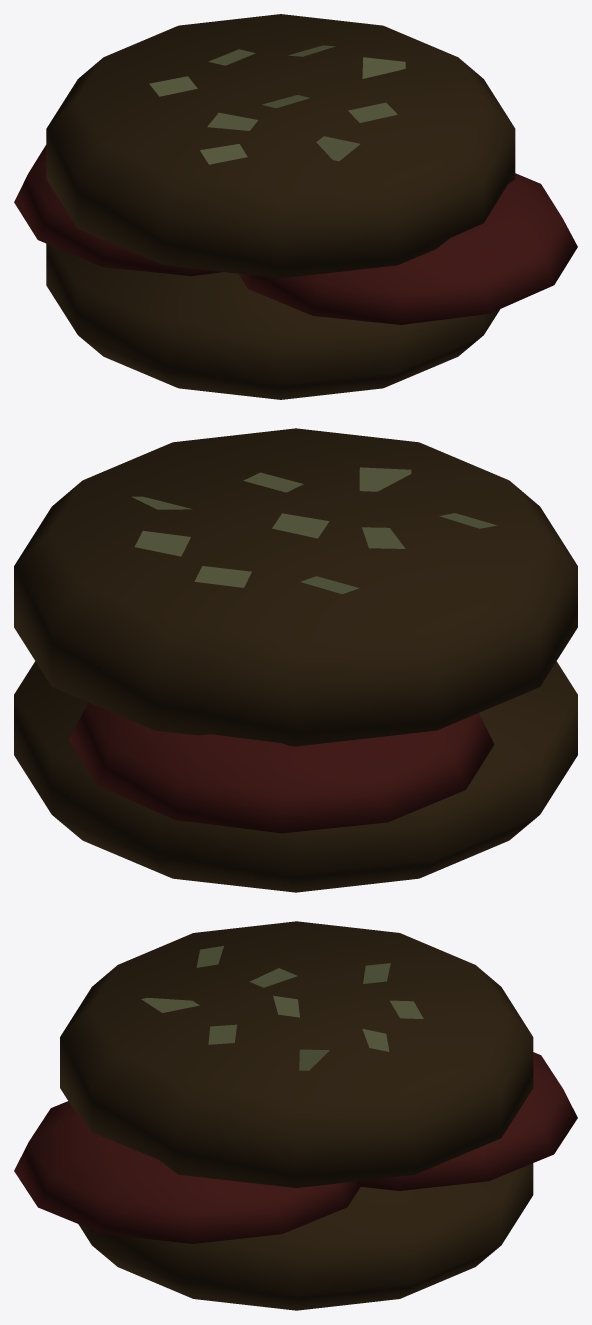
File: Burger(TomatoNoMeat).glb
3 views of the same model, one above another, from view 1: azimuth 30°, elevation 25°; view 2: azimuth 150°, elevation 25°; view 3: azimuth 270°, elevation 25° (orthographic). The views are drawn at different scales.
Parts seen in each view (by area): view 1: Cylinder.043; view 2: Cylinder.043; view 3: Cylinder.043.
Boxes of the visible parts, left/top/right/bottom form: Cylinder.043: left=14, top=14, right=577, bottom=399; Cylinder.043: left=14, top=428, right=577, bottom=892; Cylinder.043: left=14, top=921, right=577, bottom=1310.
Size of the model in its own units: 0.4936 by 0.2442 by 0.5625.
